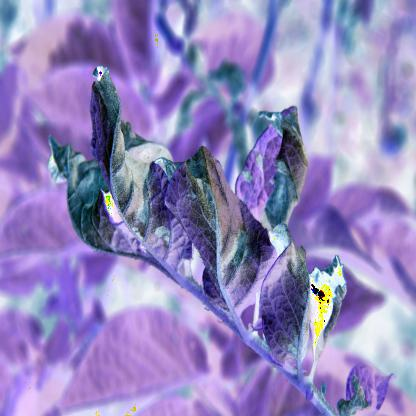potato leaf late blight: (90, 63, 179, 278), (170, 159, 277, 333), (48, 137, 156, 271), (258, 223, 312, 391), (251, 104, 308, 228)
